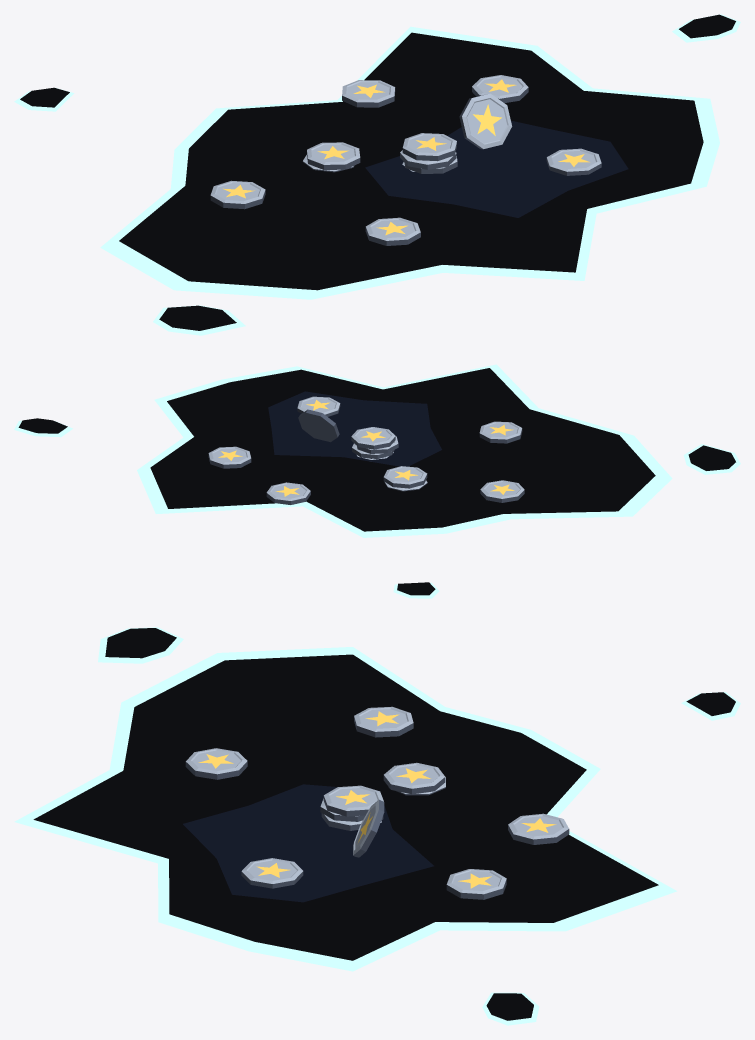
The model's file is lost_lochas.glb.
The picture shows the model from 3 angles, top to bottom: view 1: azimuth 30°, elevation 25°; view 2: azimuth 150°, elevation 25°; view 3: azimuth 270°, elevation 25°; orthographic projection. The views are drawn at different scales.
Parts seen in each view (by area): view 1: lost_lochas; view 2: lost_lochas; view 3: lost_lochas.
Boxes of the visible parts, x1,y1,x2,y2 form: lost_lochas: (14,14,740,335); lost_lochas: (14,364,740,598); lost_lochas: (14,627,740,1025).
Bounding box in the file's own units: 1.52 × 0.0957 × 1.17.
